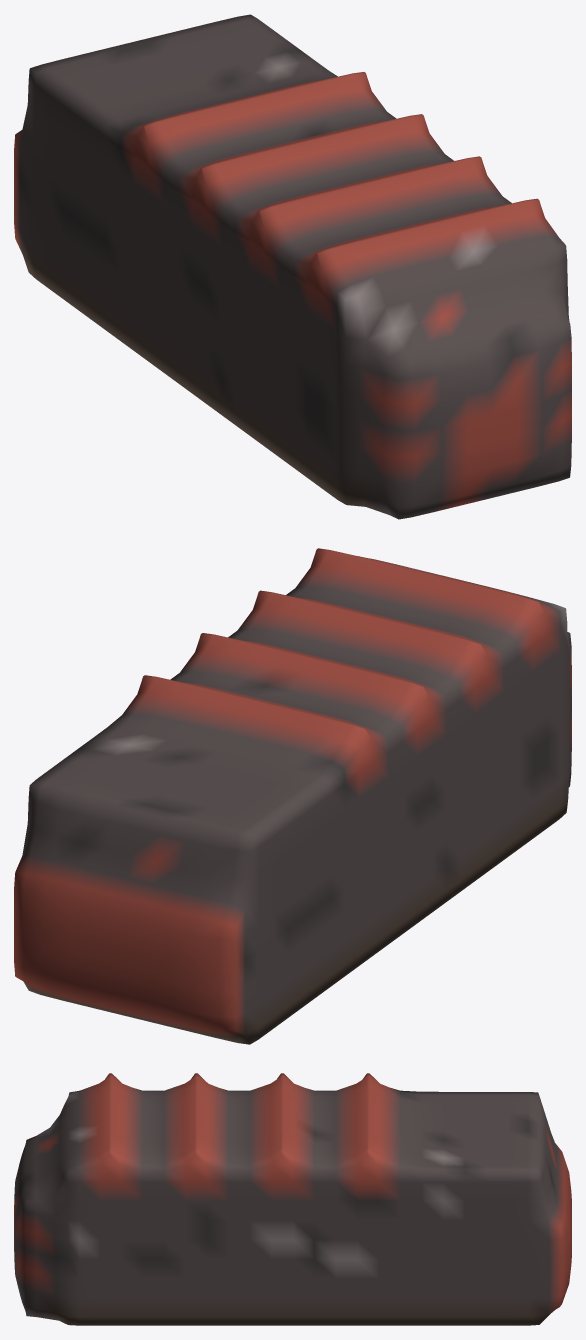
File: plate_masterwork_boot_foot_L.glb
3 views of the same model, one above another, from view 1: azimuth 30°, elevation 25°; view 2: azimuth 150°, elevation 25°; view 3: azimuth 270°, elevation 25° (orthographic). The views are drawn at different scales.
Parts seen in each view (by area): view 1: plate_masterwork_boot_foot_L; view 2: plate_masterwork_boot_foot_L; view 3: plate_masterwork_boot_foot_L.
Boxes of the visible parts, x1,y1,x2,y2 form: plate_masterwork_boot_foot_L: [14, 14, 571, 519]; plate_masterwork_boot_foot_L: [14, 548, 571, 1044]; plate_masterwork_boot_foot_L: [14, 1073, 571, 1325].
Size of the model in its own units: 0.108 by 0.1076 by 0.3118.
